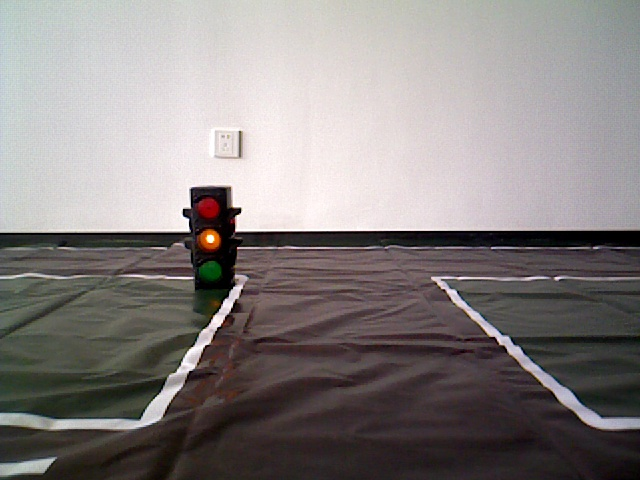yellow: (186, 184, 235, 294)
